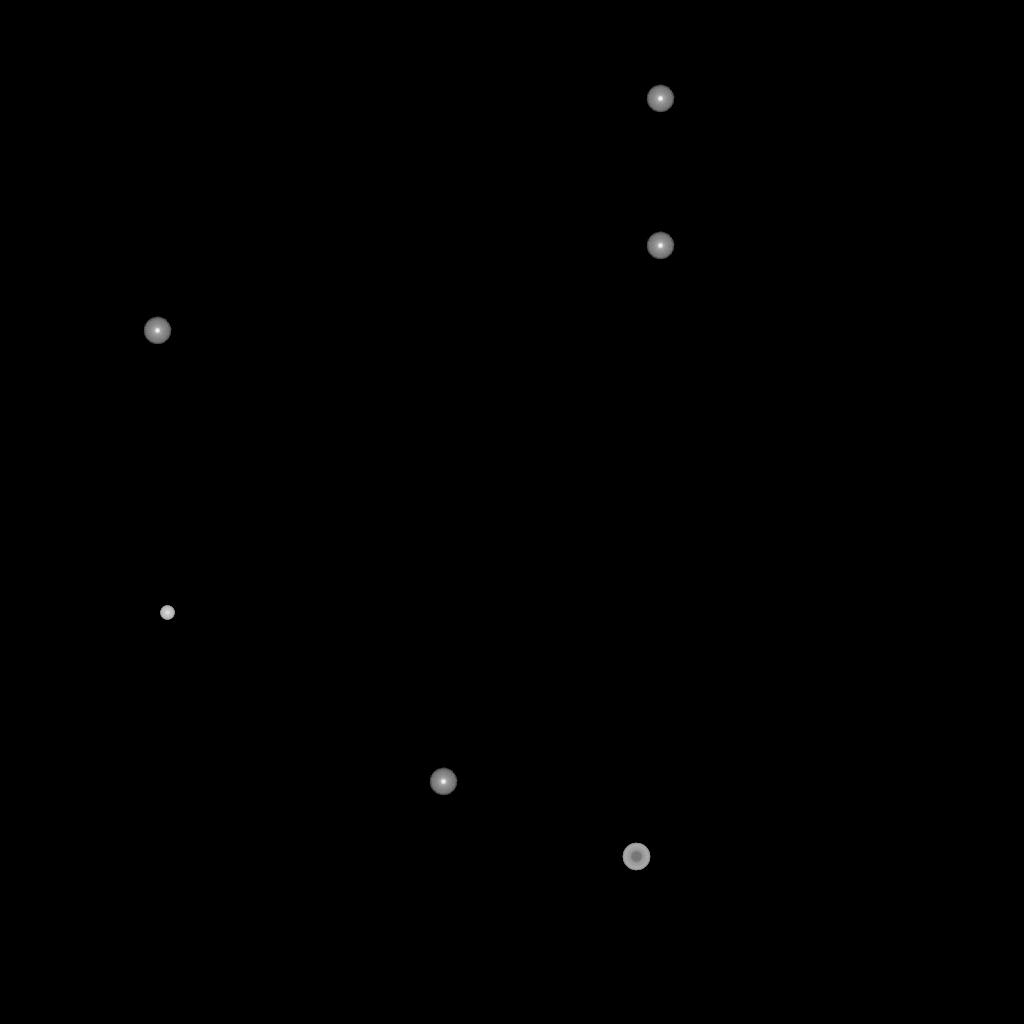depth:-10: (646, 85, 674, 113), (429, 768, 457, 796), (143, 317, 171, 345), (646, 232, 674, 260)
depth:-30: (160, 606, 174, 620)
depth:-50: (622, 843, 650, 871)
